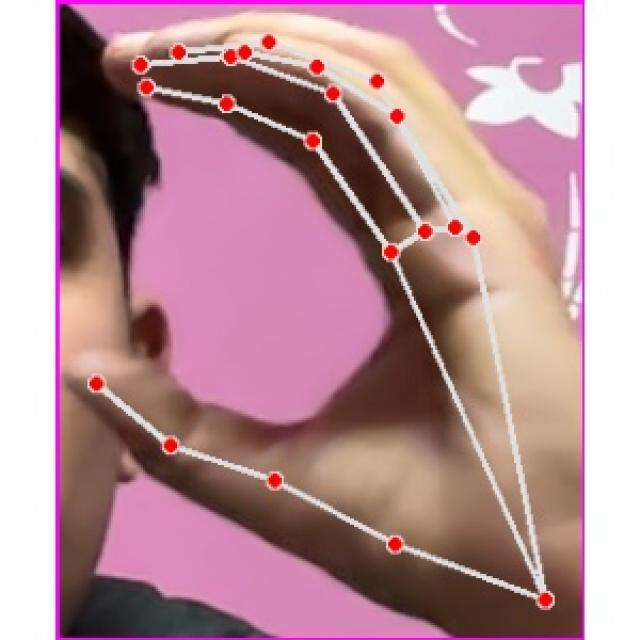C: (97, 20, 534, 578)
